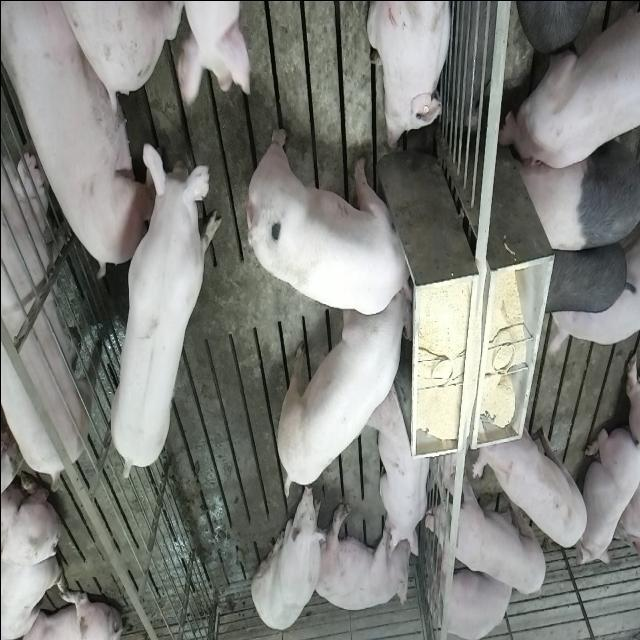Feeding: (249, 123, 420, 315), (274, 283, 409, 497)
Lateral_lying: (310, 503, 412, 611)
Sitting: (250, 483, 324, 633)
Standing: (105, 136, 218, 476), (0, 120, 98, 478), (499, 0, 638, 176), (514, 111, 638, 252), (472, 404, 588, 548), (423, 478, 547, 596), (172, 0, 253, 101)
Sternal_lying: (365, 0, 453, 150), (368, 378, 433, 556), (578, 418, 638, 568), (432, 553, 514, 639)
